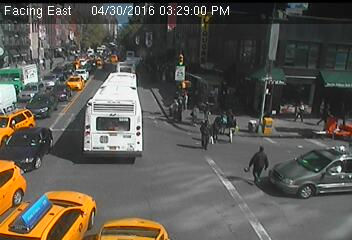neg: (17, 191, 41, 223), (169, 49, 192, 79), (88, 111, 110, 139), (294, 180, 315, 208), (116, 76, 137, 102), (124, 114, 144, 140), (106, 39, 123, 61), (197, 54, 213, 76), (72, 32, 88, 53), (321, 151, 337, 171), (18, 139, 33, 159), (246, 53, 261, 73), (24, 66, 39, 85), (287, 27, 300, 44), (141, 38, 152, 53), (109, 10, 120, 24), (233, 25, 243, 39), (170, 22, 179, 34), (124, 26, 131, 36)
pos: (241, 141, 276, 187), (194, 120, 217, 151), (219, 107, 242, 137), (317, 100, 338, 129), (291, 97, 310, 122), (181, 92, 194, 109)
